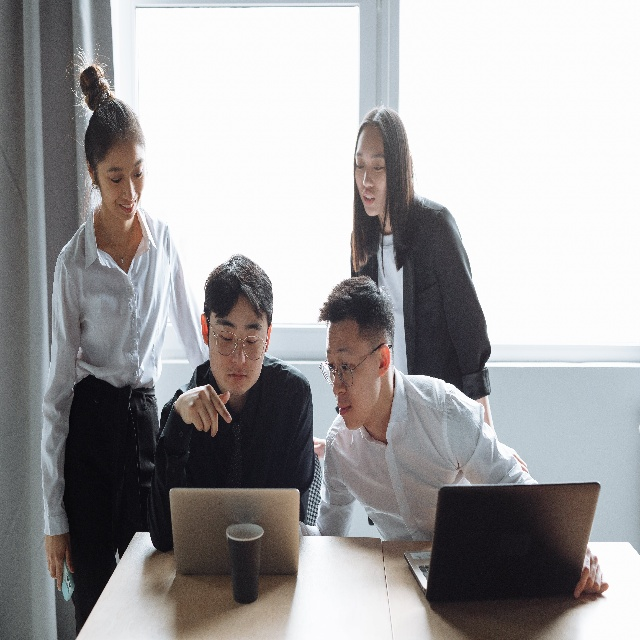Gafas: (204, 311, 269, 360), (319, 344, 393, 386)
Sin_guantes: (174, 382, 233, 439), (573, 546, 611, 599), (44, 533, 75, 593)
